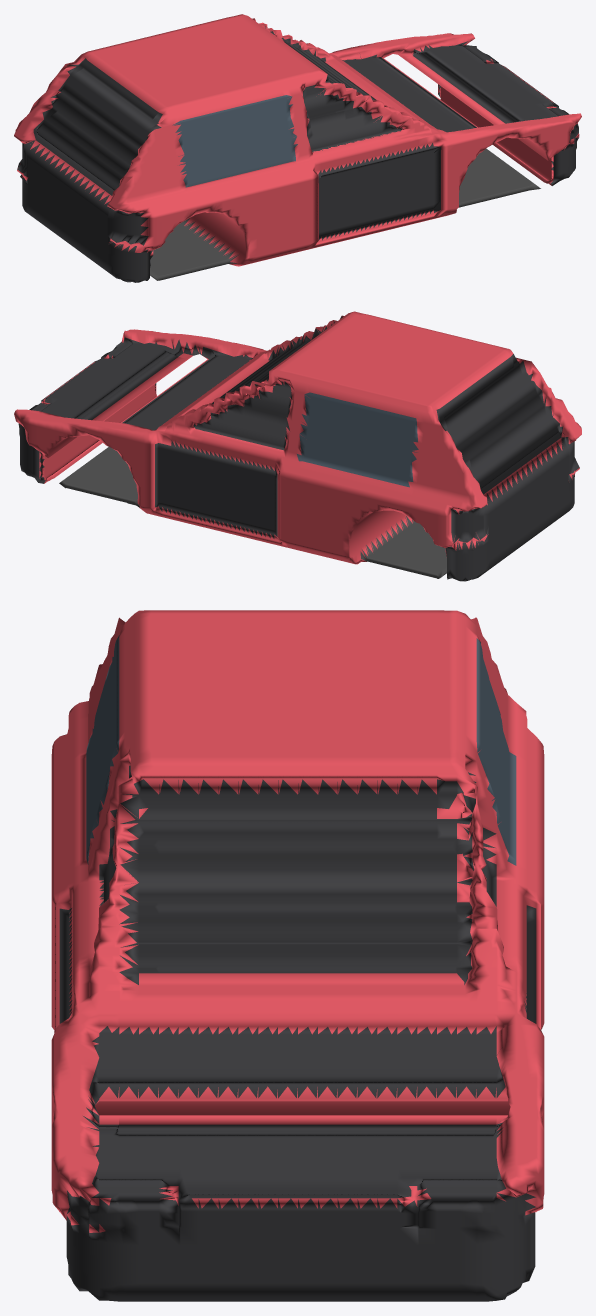
File: body.glb
3 renders of one model, top to bottom at view 1: azimuth 30°, elevation 25°; view 2: azimuth 150°, elevation 25°; view 3: azimuth 270°, elevation 25°, orthographic. The views are drawn at different scales.
Visible parts, largest first — view 1: body; view 2: body; view 3: body.
Part boxes in pixels (x1,y1,x2,y2): body: (14,14,581,282); body: (14,311,581,581); body: (51,610,544,1301).
Size of the model in its own units: 38.28 by 12.67 by 17.5.
